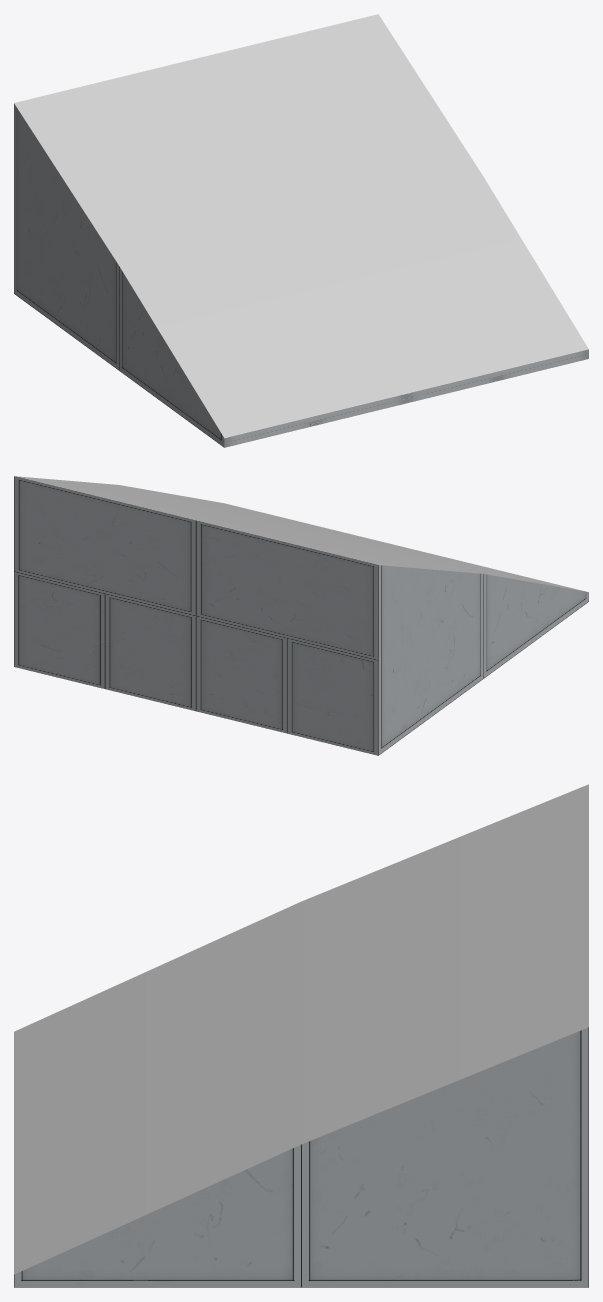
File: Roof_Tile_01.FBX
3 views of the same model, one above another, from view 1: azimuth 30°, elevation 25°; view 2: azimuth 150°, elevation 25°; view 3: azimuth 270°, elevation 25° (orthographic). The views are drawn at different scales.
Visible parts, largest first — view 1: Roof_Tile_01; view 2: Roof_Tile_01; view 3: Roof_Tile_01.
Part boxes in pixels (x1=…): Roof_Tile_01: x1=14, y1=14, x2=588, y2=447; Roof_Tile_01: x1=14, y1=476, x2=588, y2=755; Roof_Tile_01: x1=14, y1=784, x2=588, y2=1287.
Bounding box in the file's own units: 4 × 2 × 4.
